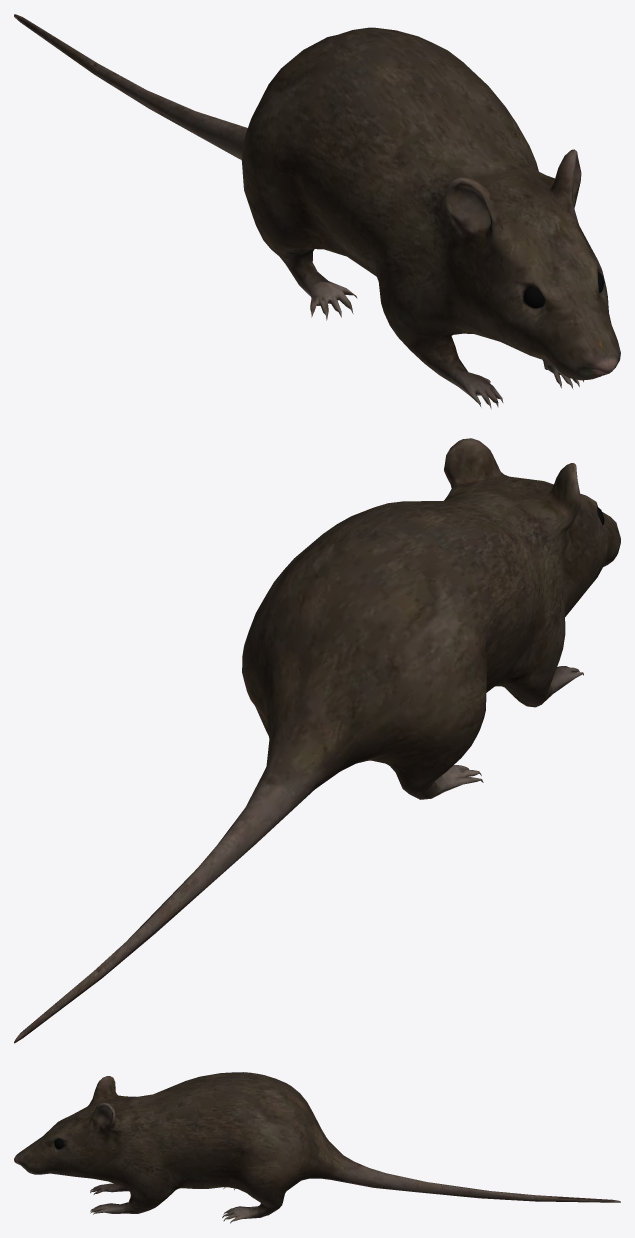
Rendered from street_rat_1k_lo.glb.
3 views of the same model, one above another, from view 1: azimuth 30°, elevation 25°; view 2: azimuth 150°, elevation 25°; view 3: azimuth 270°, elevation 25° (orthographic). The views are drawn at different scales.
Visible parts, largest first — view 1: street_rat; view 2: street_rat; view 3: street_rat.
Part boxes in pixels (box(x1,y1,x2,y2)): street_rat: box(14, 14, 620, 409); street_rat: box(14, 438, 620, 1043); street_rat: box(14, 1072, 620, 1223).
Size of the model in its own units: 0.0319 by 0.0337 by 0.1483.
Materials: 1 (1 with a texture image).
